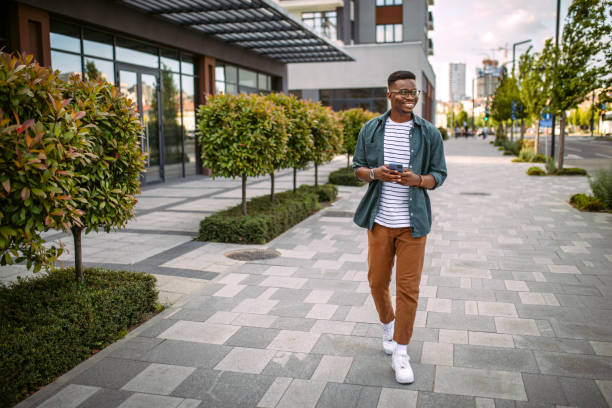face: (382, 68, 423, 113)
